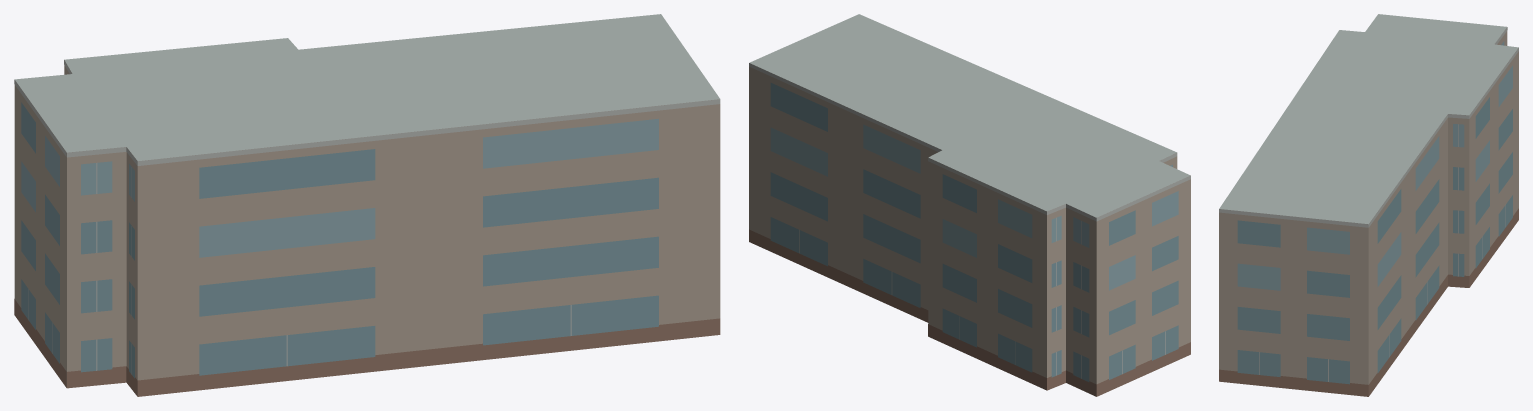
File: survey-upis-32762982.glb
The picture shows the model from 3 angles, left to right: view 1: azimuth 30°, elevation 25°; view 2: azimuth 150°, elevation 25°; view 3: azimuth 270°, elevation 25°; orthographic projection. The views are drawn at different scales.
Visible parts, largest first — view 1: survey-upis-32762982.tmp; view 2: survey-upis-32762982.tmp; view 3: survey-upis-32762982.tmp.
Boxes of the visible parts, x1=… form: survey-upis-32762982.tmp: x1=14, y1=14, x2=720, y2=396; survey-upis-32762982.tmp: x1=749, y1=14, x2=1190, y2=396; survey-upis-32762982.tmp: x1=1219, y1=14, x2=1518, y2=396.
Size of the model in its own units: 30.55 by 11.7 by 18.41.
